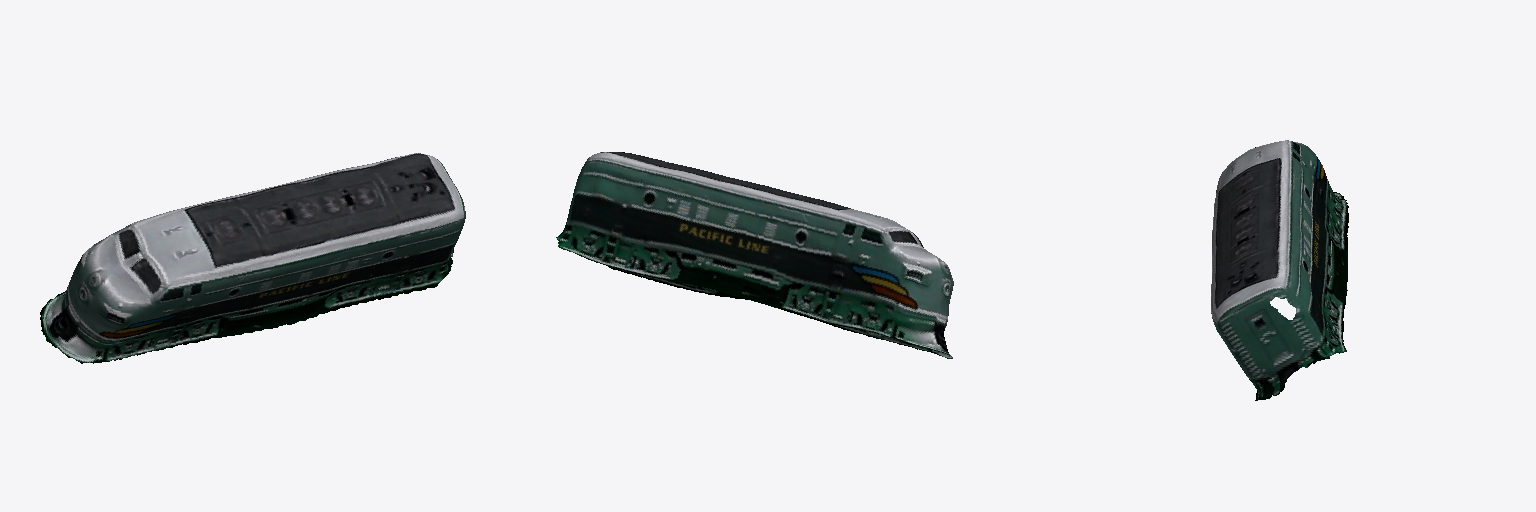
3 renders of one model, left to right at view 1: azimuth 30°, elevation 25°; view 2: azimuth 150°, elevation 25°; view 3: azimuth 270°, elevation 25°, orthographic.
Bounding box in the file's own units: 2.69 × 0.8317 × 0.816.
1 materials, 1 textured.